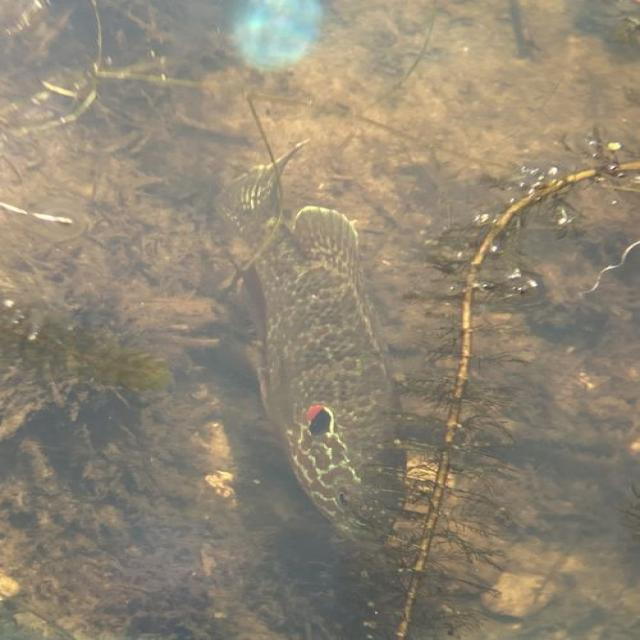Gunes Levregi: (206, 133, 420, 552)
